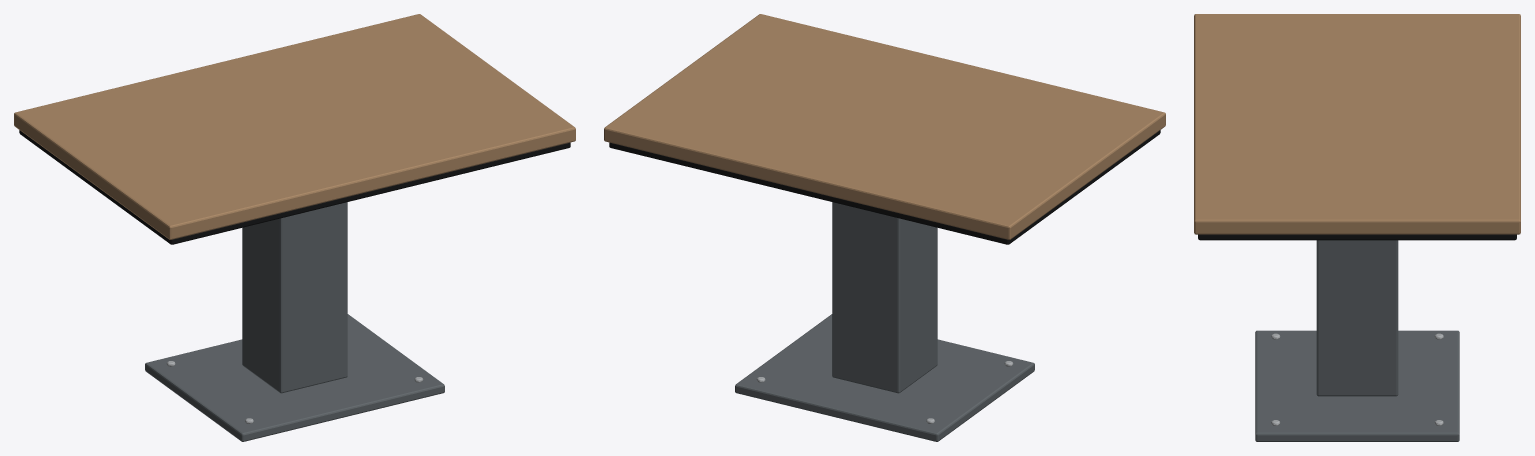
The model's file is PROP_Table_Interview_Fixed.glb.
3 renders of one model, left to right at view 1: azimuth 30°, elevation 25°; view 2: azimuth 150°, elevation 25°; view 3: azimuth 270°, elevation 25°, orthographic. The views are drawn at different scales.
Visible parts, largest first — view 1: PROP_Table_Interview_Fixed_Mesh; view 2: PROP_Table_Interview_Fixed_Mesh; view 3: PROP_Table_Interview_Fixed_Mesh.
Boxes of the visible parts, box(x1,y1,x2,y2) form: PROP_Table_Interview_Fixed_Mesh: box(14, 14, 575, 441); PROP_Table_Interview_Fixed_Mesh: box(604, 14, 1165, 441); PROP_Table_Interview_Fixed_Mesh: box(1194, 14, 1520, 441).
Size of what is drawn, in the model's own units: 1.2 by 0.74 by 0.8.
